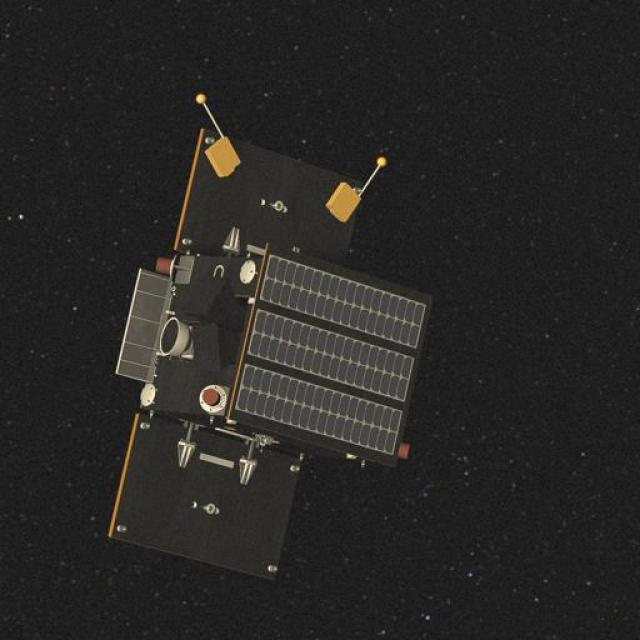proba_2: (102, 84, 427, 584)
